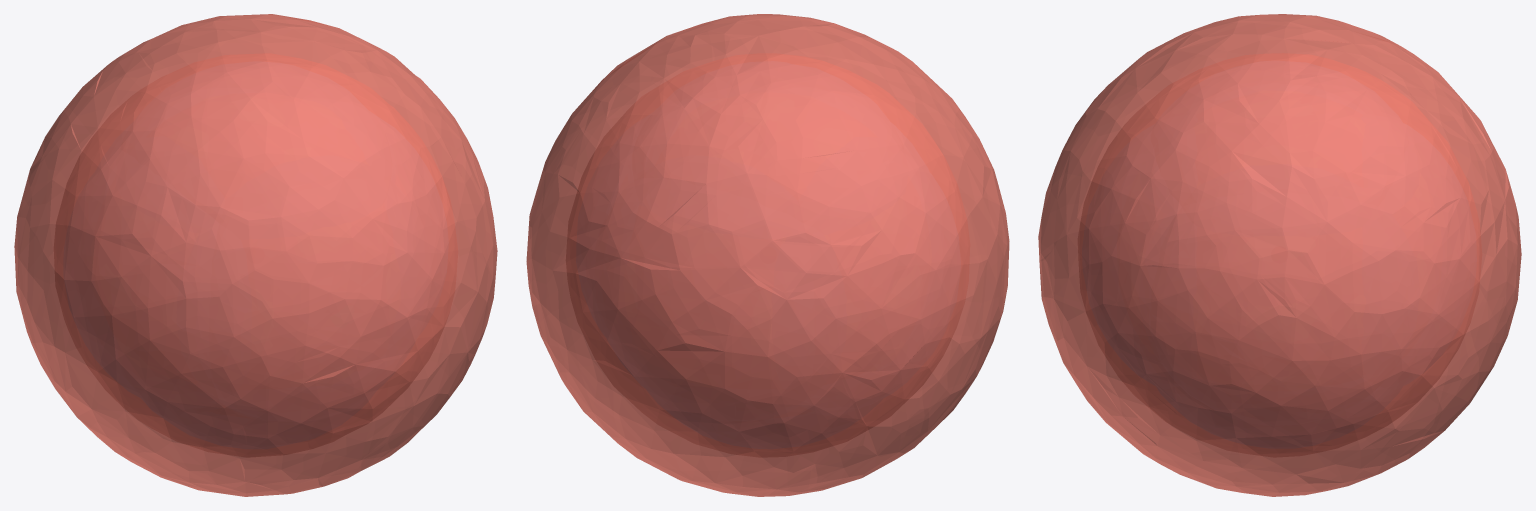
The model's file is orbital.glb.
3 renders of one model, left to right at view 1: azimuth 30°, elevation 25°; view 2: azimuth 150°, elevation 25°; view 3: azimuth 270°, elevation 25°, orthographic.
Visible parts, largest first — view 1: Sm_n6_s_ml0_node, Sm_n5_s_ml0_node; view 2: Sm_n6_s_ml0_node, Sm_n5_s_ml0_node; view 3: Sm_n6_s_ml0_node, Sm_n5_s_ml0_node.
Part boxes in pixels (box(x1,y1,x2,y2)): Sm_n6_s_ml0_node: box(14, 14, 497, 496); Sm_n5_s_ml0_node: box(54, 53, 457, 457); Sm_n6_s_ml0_node: box(526, 14, 1009, 496); Sm_n5_s_ml0_node: box(566, 53, 969, 457); Sm_n6_s_ml0_node: box(1038, 14, 1521, 496); Sm_n5_s_ml0_node: box(1078, 53, 1481, 457).
Size of the model in its own units: 3.06 by 3.06 by 3.06.
